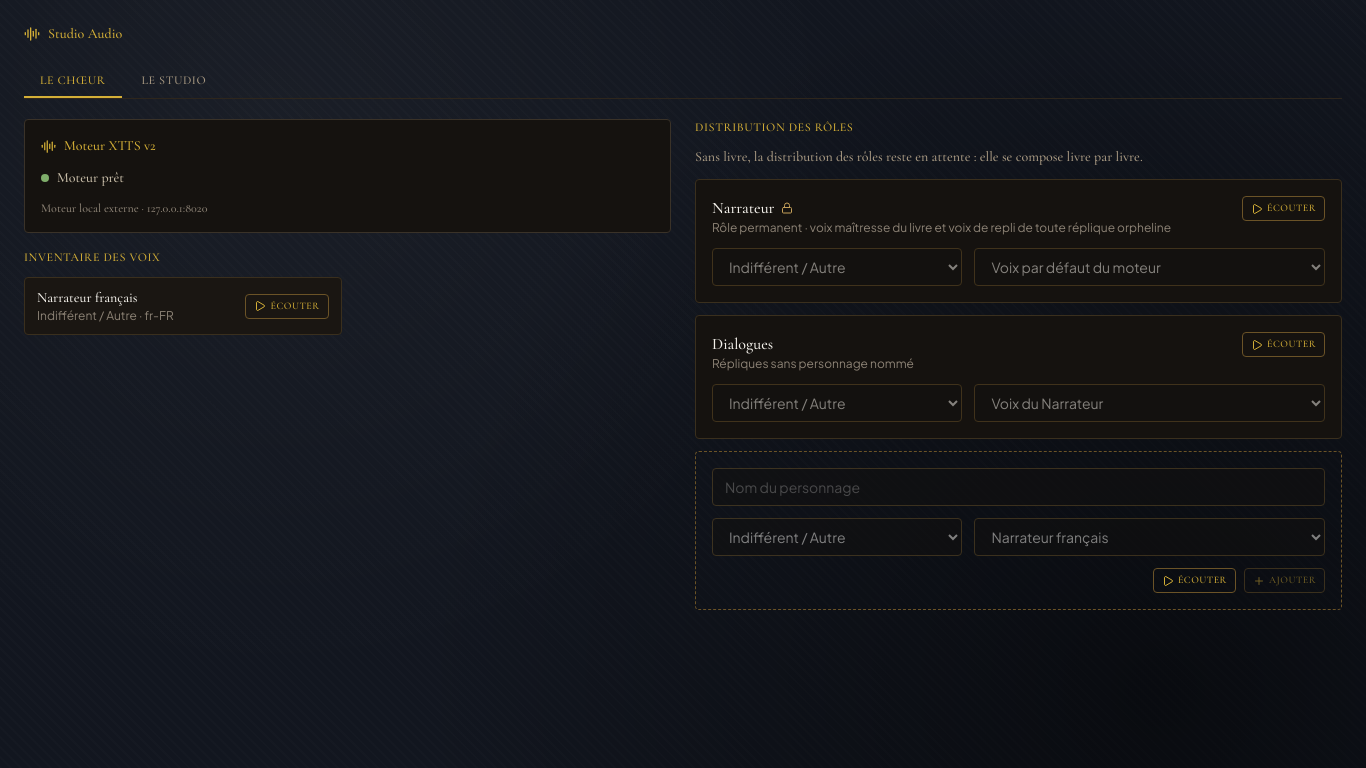
Test: StudioAudioView › reports a preview failure instead of failing silently
Click the button with aria-label "Écouter la voix Narrateur français". click: {"x": 287, "y": 306}
box: [246,294,328,318]
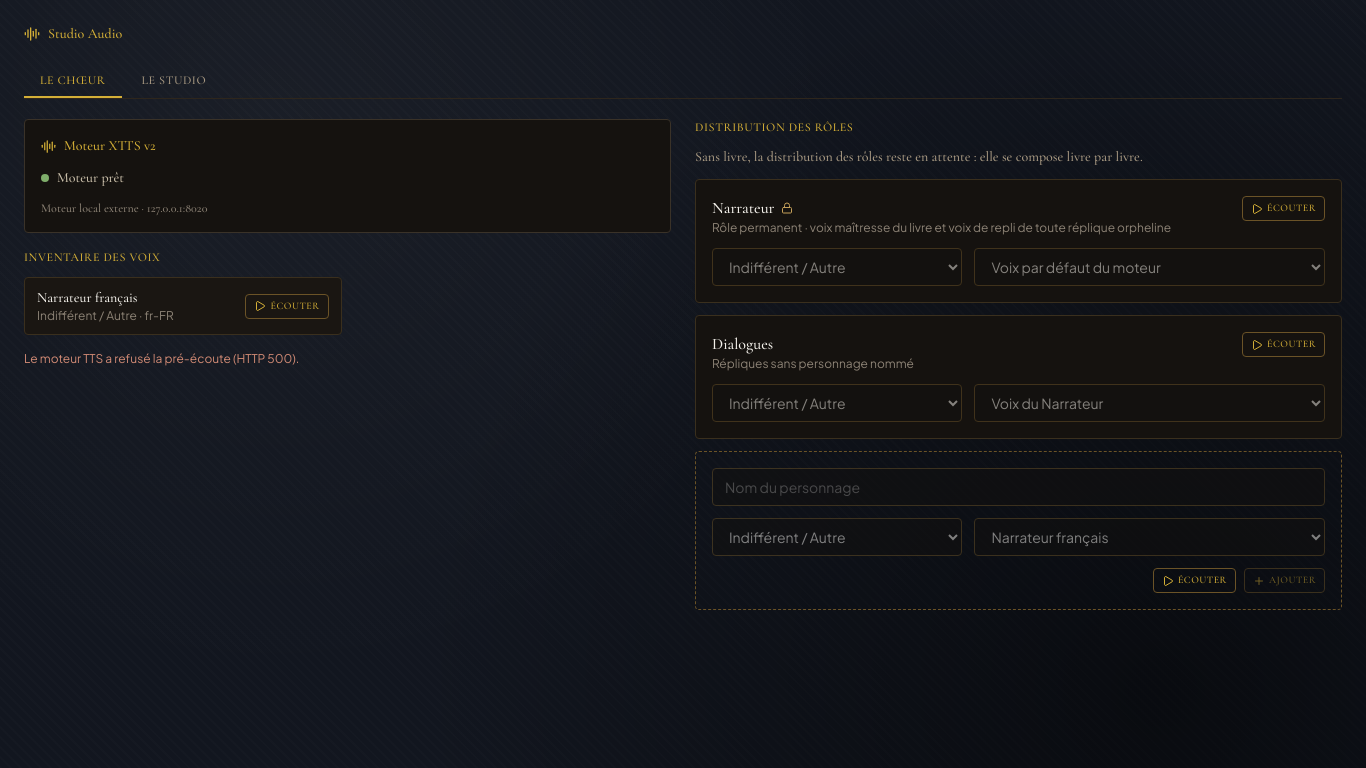
Expected: the message "Le moteur TTS a refusé la pré-écoute (HTTP 500)." is shown, [24,351,299,366]
